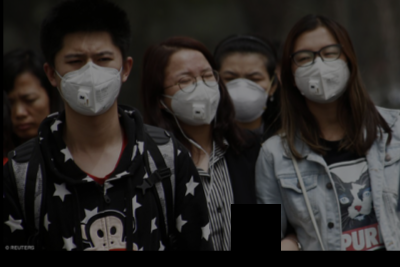with_mask: (54, 44, 124, 116), (291, 41, 352, 102), (162, 62, 221, 123), (218, 64, 273, 122)
without_mask: (5, 87, 50, 139)
